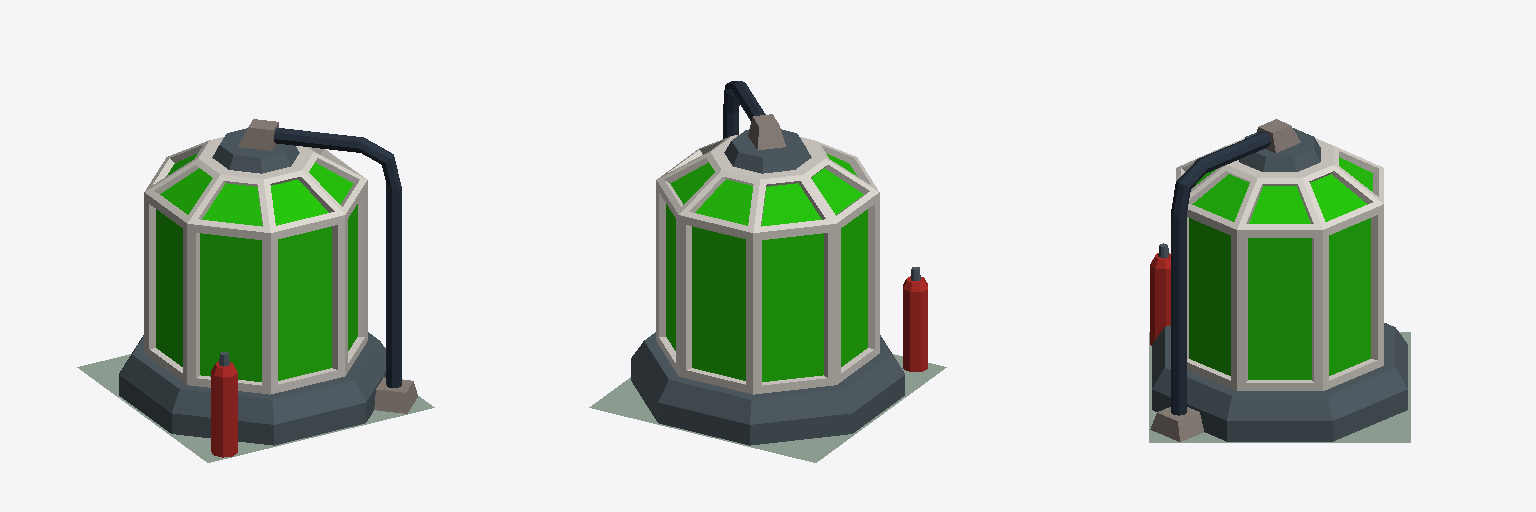
The picture shows the model from 3 angles: view 1: azimuth 30°, elevation 25°; view 2: azimuth 150°, elevation 25°; view 3: azimuth 270°, elevation 25°; orthographic projection.
Parts seen in each view (by area): view 1: Circle.001; view 2: Circle.001; view 3: Circle.001.
Part boxes in pixels (x1,y1,x2,y2): Circle.001: (77, 119, 434, 462); Circle.001: (589, 81, 946, 462); Circle.001: (1149, 119, 1410, 442).
Size of the model in its own units: 2 by 2.22 by 2.
1 materials, 1 textured.